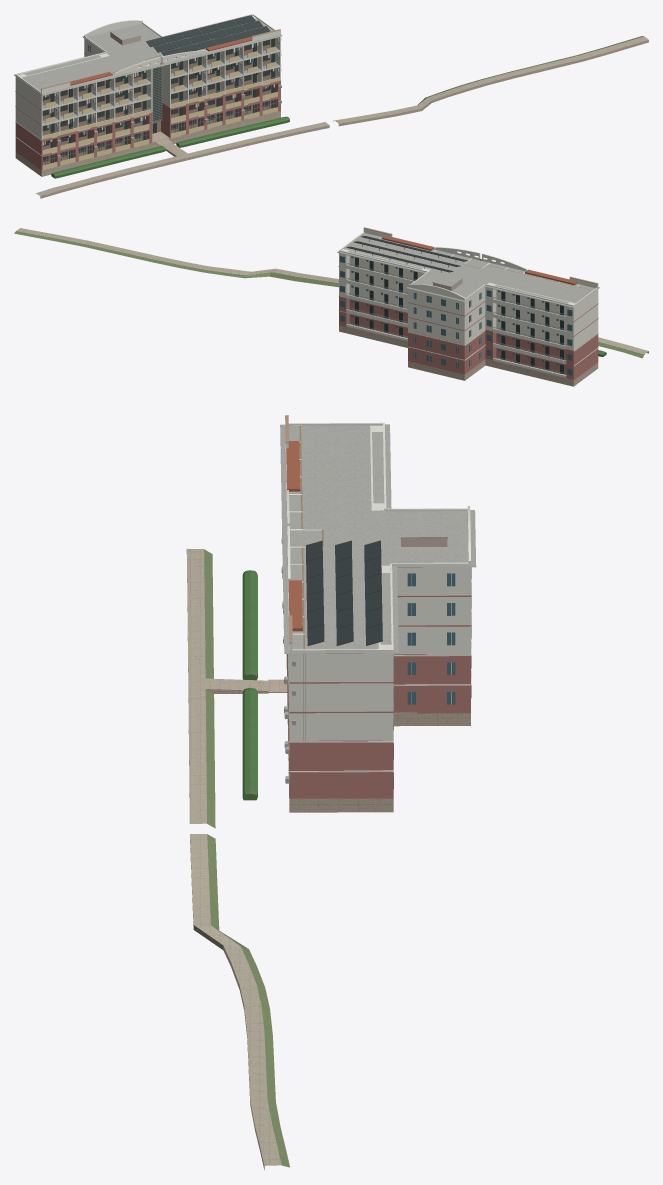
File: chunk-dorm-way-759158606.glb
3 views of the same model, one above another, from view 1: azimuth 30°, elevation 25°; view 2: azimuth 150°, elevation 25°; view 3: azimuth 270°, elevation 25° (orthographic). The views are drawn at different scales.
Visible parts, largest first — view 1: chunk-dorm-way-759158606; view 2: chunk-dorm-way-759158606; view 3: chunk-dorm-way-759158606.
Part boxes in pixels (bbox=[...]): chunk-dorm-way-759158606: bbox=[14, 14, 648, 198]; chunk-dorm-way-759158606: bbox=[14, 227, 648, 386]; chunk-dorm-way-759158606: bbox=[186, 415, 476, 1170].
Size of the model in its own units: 142 by 21.25 by 29.25.
Materials: 19 (4 with a texture image).
